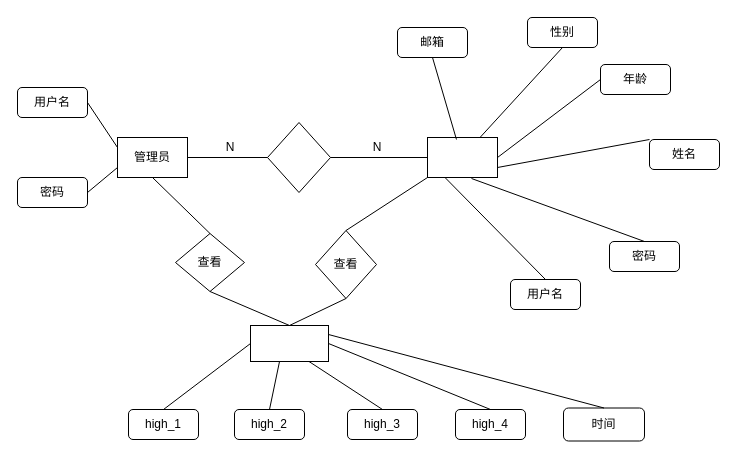
This 737x459 diagram has some shape labels left out. Here are the shapes that lost their labels. From the top down, the centre of each, then its label:
At (x=298, y=157): "管理".
At (x=462, y=157): "用户".
At (x=289, y=343): "水仓泥位数据".
